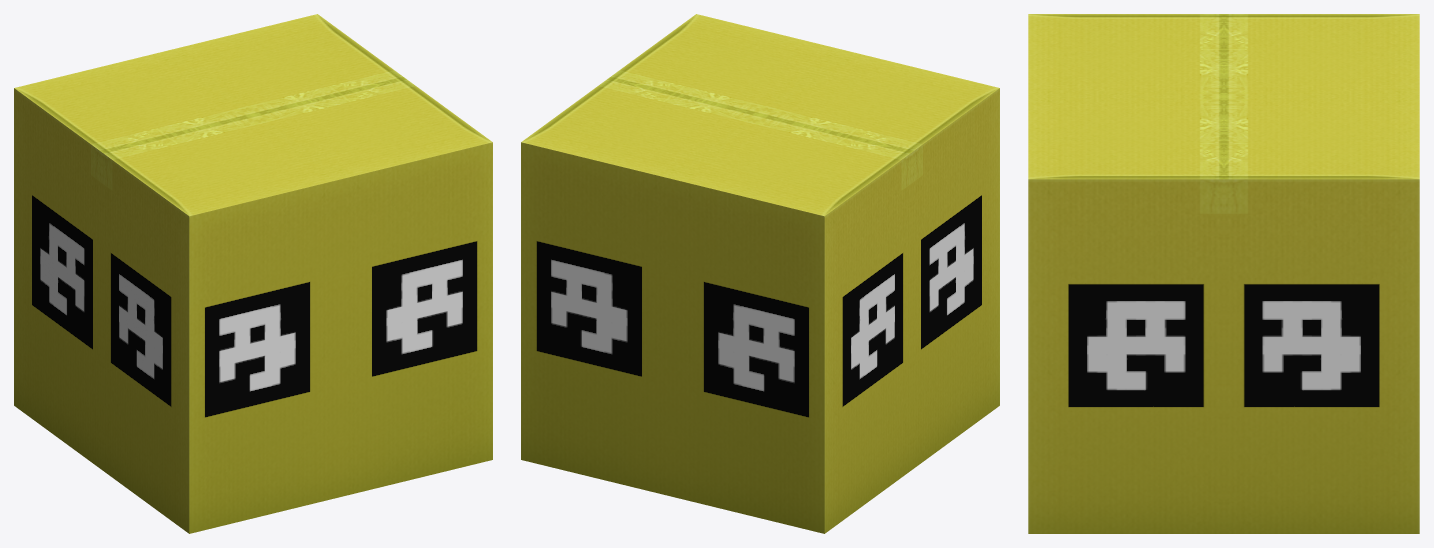
The model's file is cardboard_box_yellow_6.dae.
3 views of the same model, side by side, from view 1: azimuth 30°, elevation 25°; view 2: azimuth 150°, elevation 25°; view 3: azimuth 270°, elevation 25° (orthographic). The views are drawn at different scales.
Visible parts, largest first — view 1: Conveyor_Box; view 2: Conveyor_Box; view 3: Conveyor_Box.
Part boxes in pixels (bbox=[...]): Conveyor_Box: bbox=[14, 14, 492, 533]; Conveyor_Box: bbox=[521, 14, 999, 533]; Conveyor_Box: bbox=[1028, 14, 1419, 533].
Size of the model in its own units: 397 by 397 by 397.
